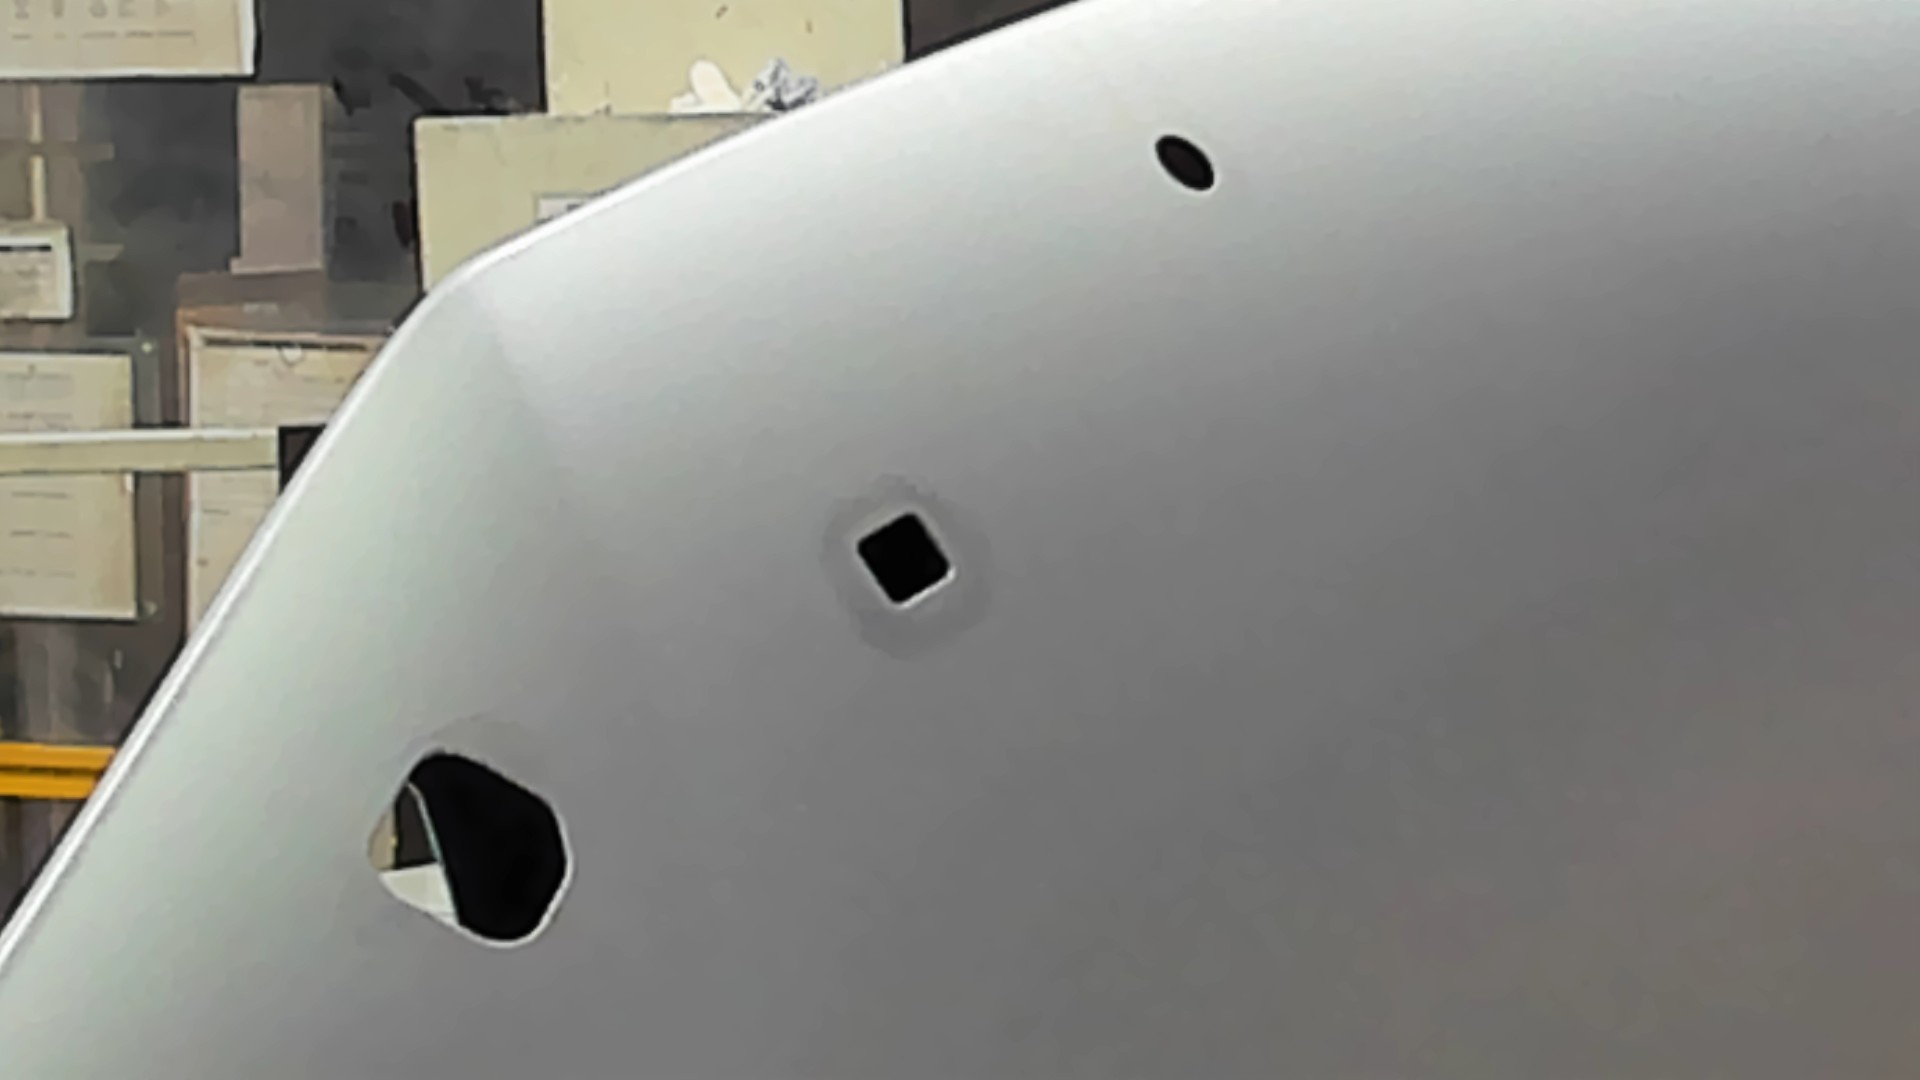chico: (1153, 132, 1218, 194)
grande: (363, 746, 576, 949)
mediano: (852, 506, 959, 611)
